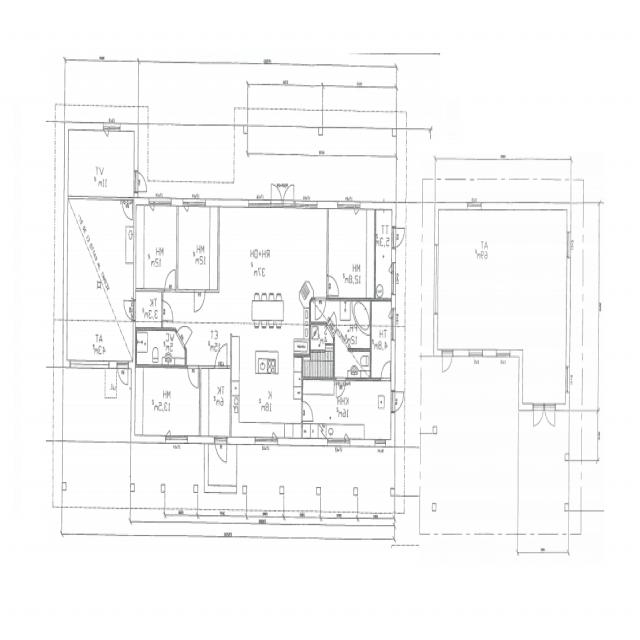door: (176, 318, 192, 348), (326, 312, 340, 338), (282, 176, 294, 205), (271, 176, 282, 205), (215, 438, 226, 467), (215, 342, 227, 368), (544, 403, 555, 430), (533, 403, 544, 430), (391, 228, 406, 247), (134, 172, 148, 192), (118, 360, 128, 387), (392, 392, 406, 411), (122, 301, 136, 320), (301, 401, 314, 421), (326, 276, 339, 296), (442, 350, 452, 376), (187, 364, 198, 387), (193, 289, 204, 312), (161, 300, 173, 320), (122, 197, 132, 220), (165, 270, 175, 292), (315, 298, 325, 319), (336, 378, 346, 397), (381, 361, 390, 381)
